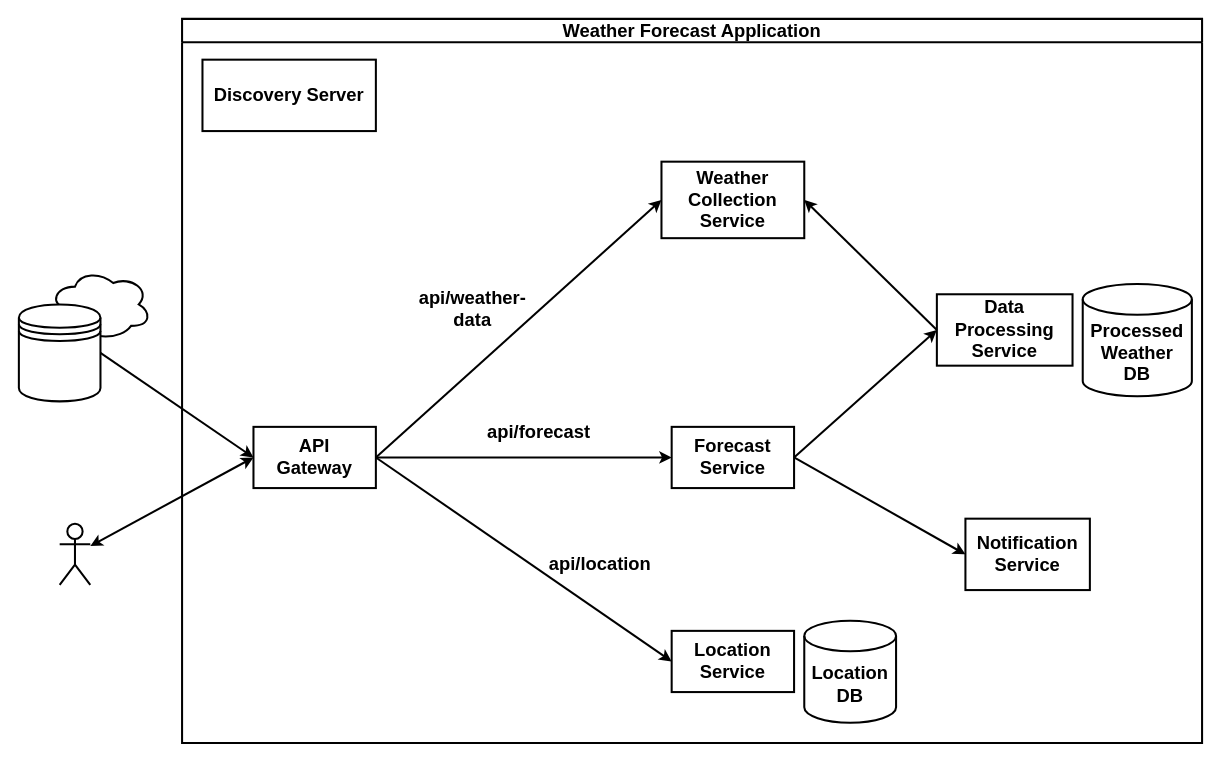
The diagram is 1220 pixels wide and 761 high, and some of its shapes have lost their labels. Here are the shapes that lost their labels. From the top down, the centre of each, then its label:
At (59,352): "Weather Stations".
At (74,553): "User".
